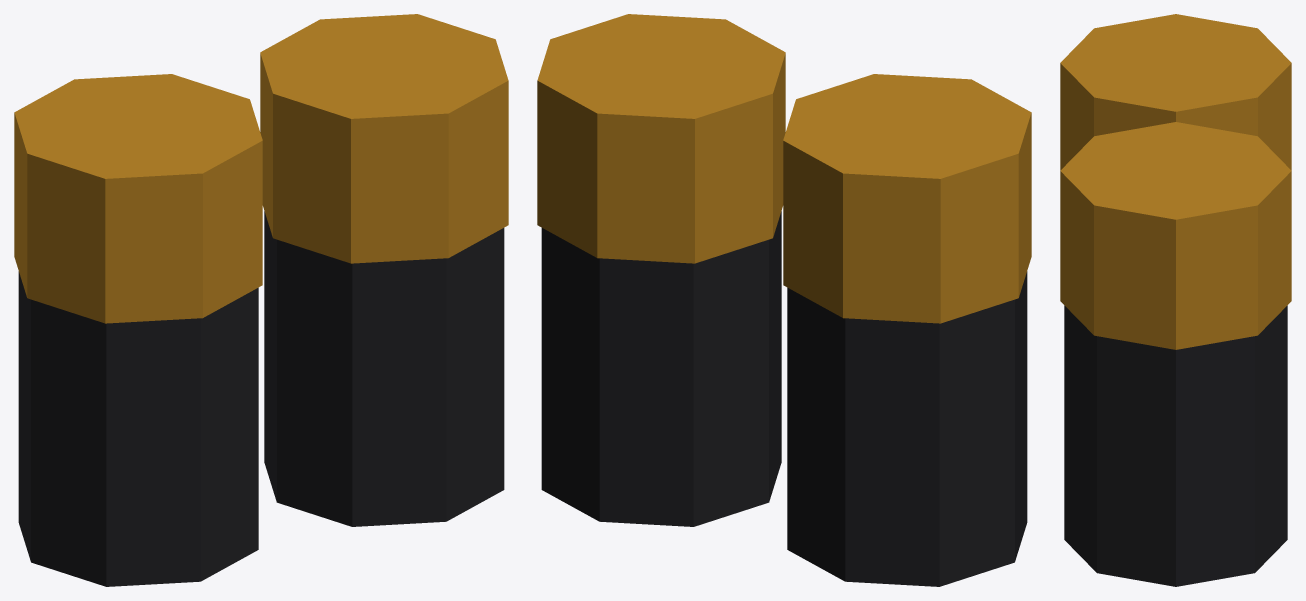
File: batteries.glb
3 views of the same model, side by side, from view 1: azimuth 30°, elevation 25°; view 2: azimuth 150°, elevation 25°; view 3: azimuth 270°, elevation 25° (orthographic). The views are drawn at different scales.
Parts seen in each view (by area): view 1: batteries; view 2: batteries; view 3: batteries.
Part boxes in pixels (x1=…): batteries: x1=14, y1=14, x2=508, y2=586; batteries: x1=537, y1=14, x2=1031, y2=586; batteries: x1=1060, y1=14, x2=1291, y2=586.
Bounding box in the file's own units: 0.061 × 0.051 × 0.029.
